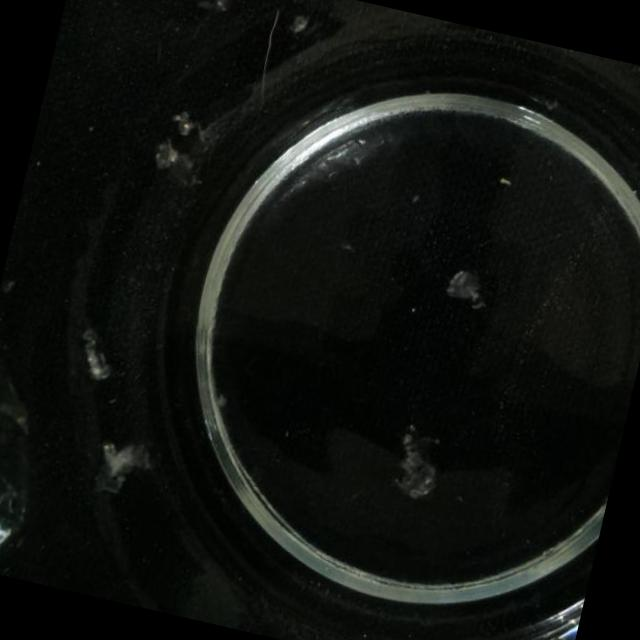fiber: (141, 101, 218, 200), (384, 420, 452, 506), (88, 430, 158, 504), (73, 324, 120, 386), (440, 261, 492, 313), (280, 5, 318, 44), (195, 0, 236, 17)
